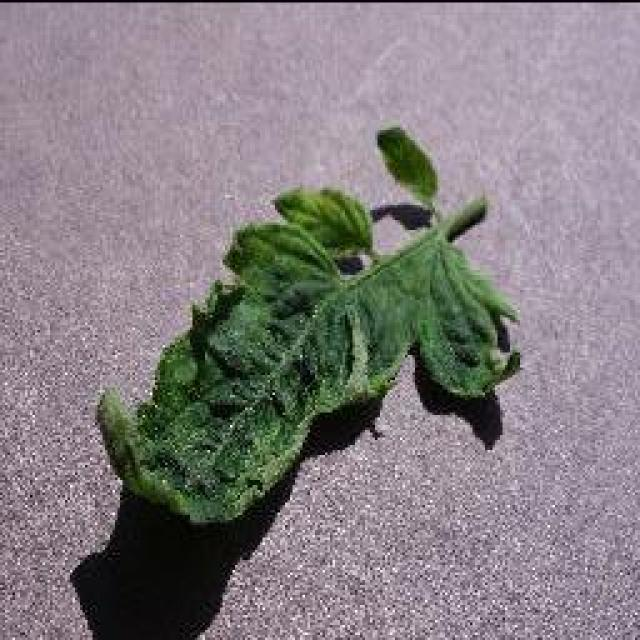Tomato___Tomato_mosaic_virus: (100, 128, 518, 520)
